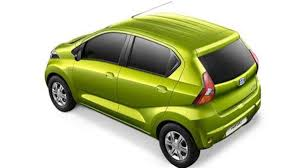Nissan: (45, 34, 260, 137)
